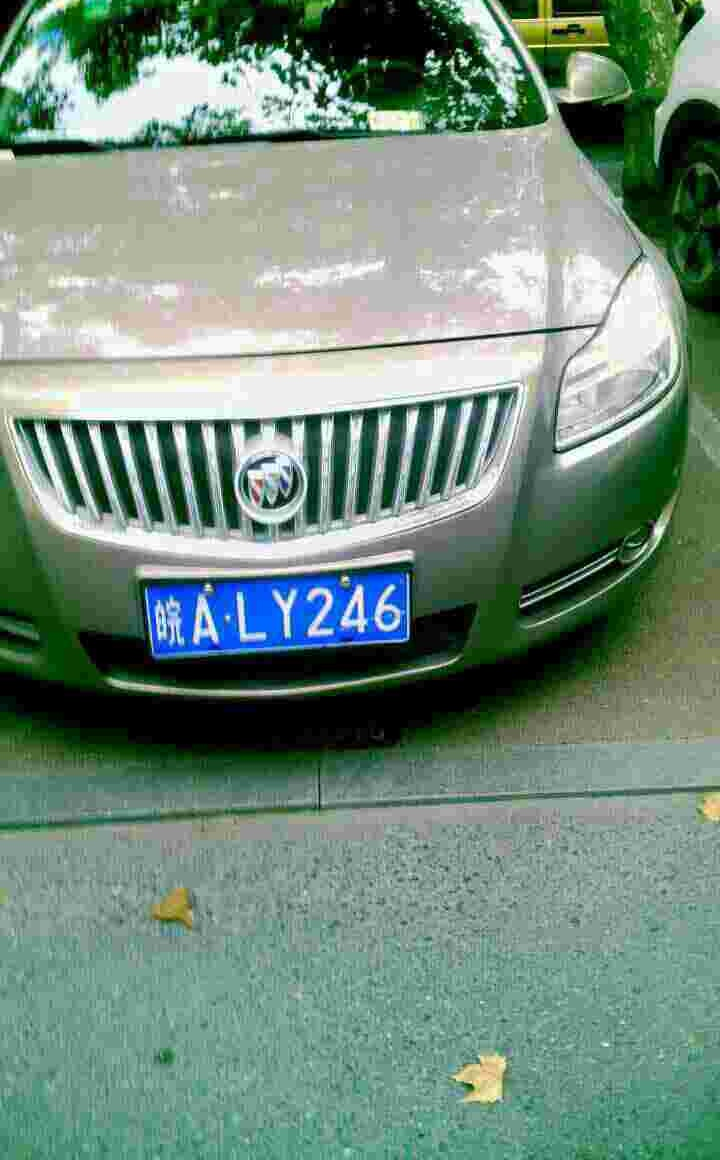car: (125, 572, 419, 649)
